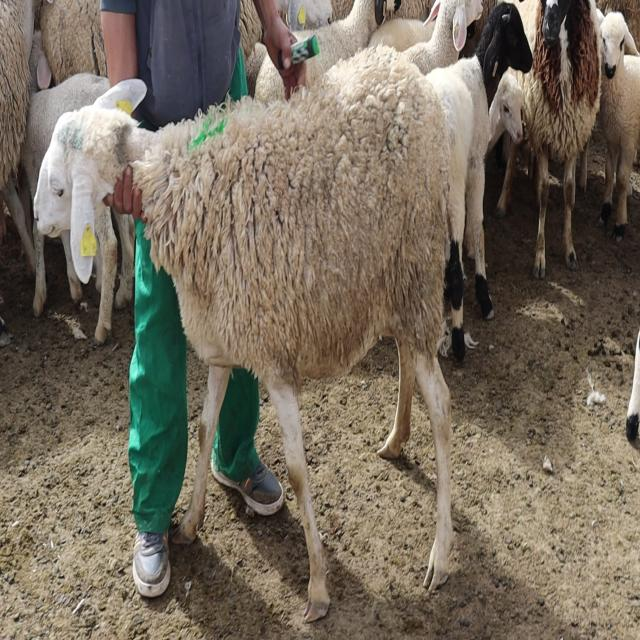Score_2: (34, 45, 460, 622)
